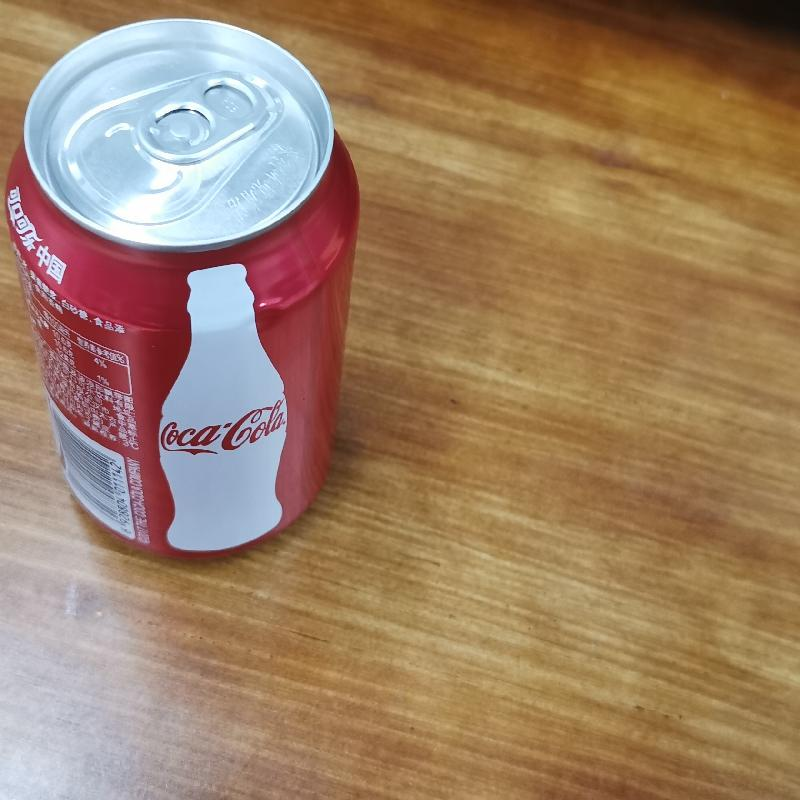cans: (0, 21, 361, 572)
